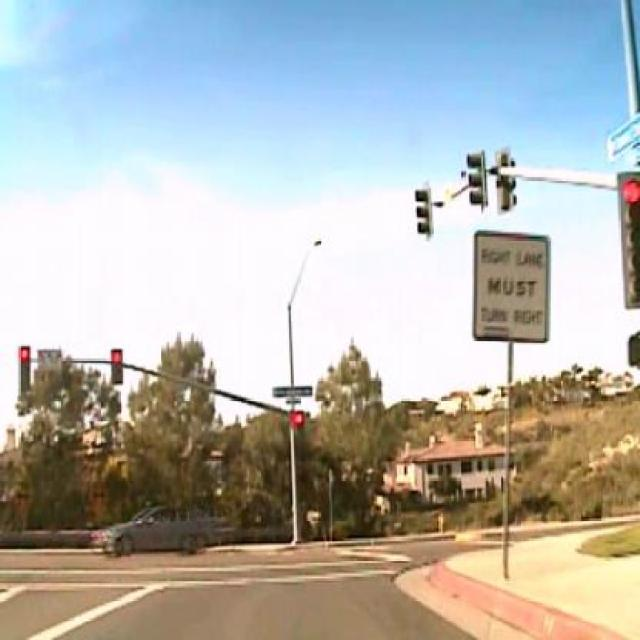rightLaneMustTurn: (472, 229, 552, 344)
